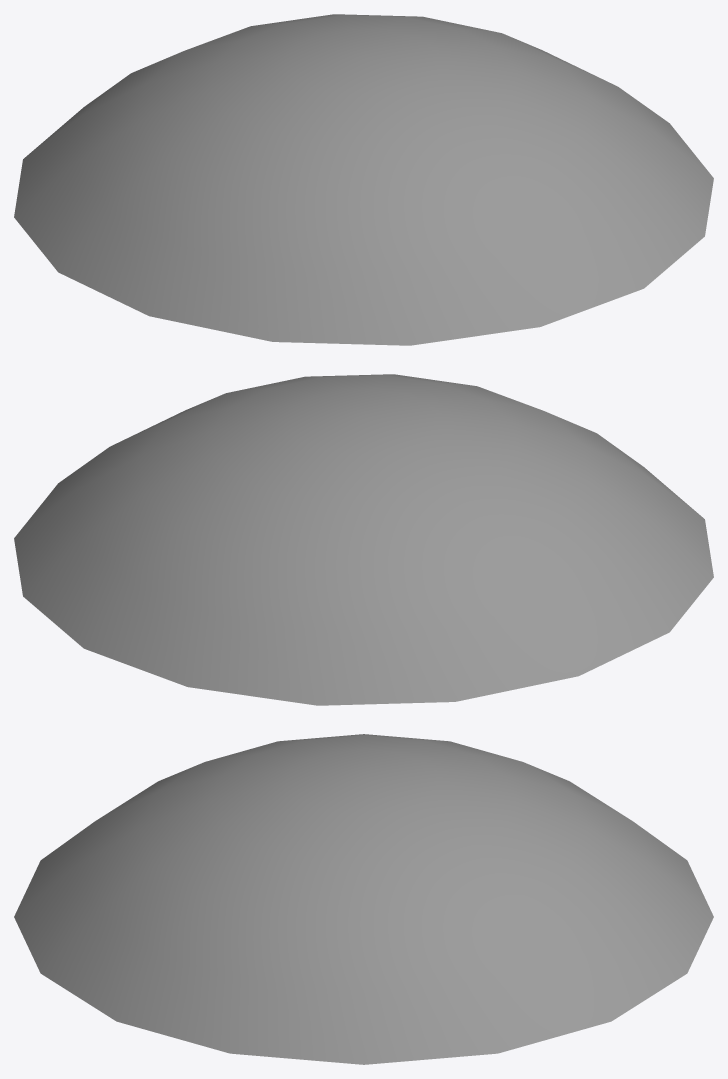
Rendered from Dest_PoisonFactory_Lobby_Dome.FBX.
3 renders of one model, top to bottom at view 1: azimuth 30°, elevation 25°; view 2: azimuth 150°, elevation 25°; view 3: azimuth 270°, elevation 25°, orthographic.
Parts seen in each view (by area): view 1: OilTank003; view 2: OilTank003; view 3: OilTank003.
Boxes of the visible parts, <box> form: OilTank003: <box>14,14,713,345</box>; OilTank003: <box>14,374,713,705</box>; OilTank003: <box>14,734,713,1064</box>.
Size of the model in its own units: 154 by 34.62 by 154.
